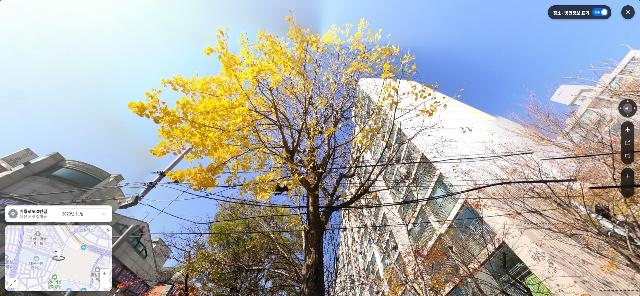ginkgo: (126, 8, 475, 296)
other: (372, 86, 640, 296), (162, 197, 324, 296)
